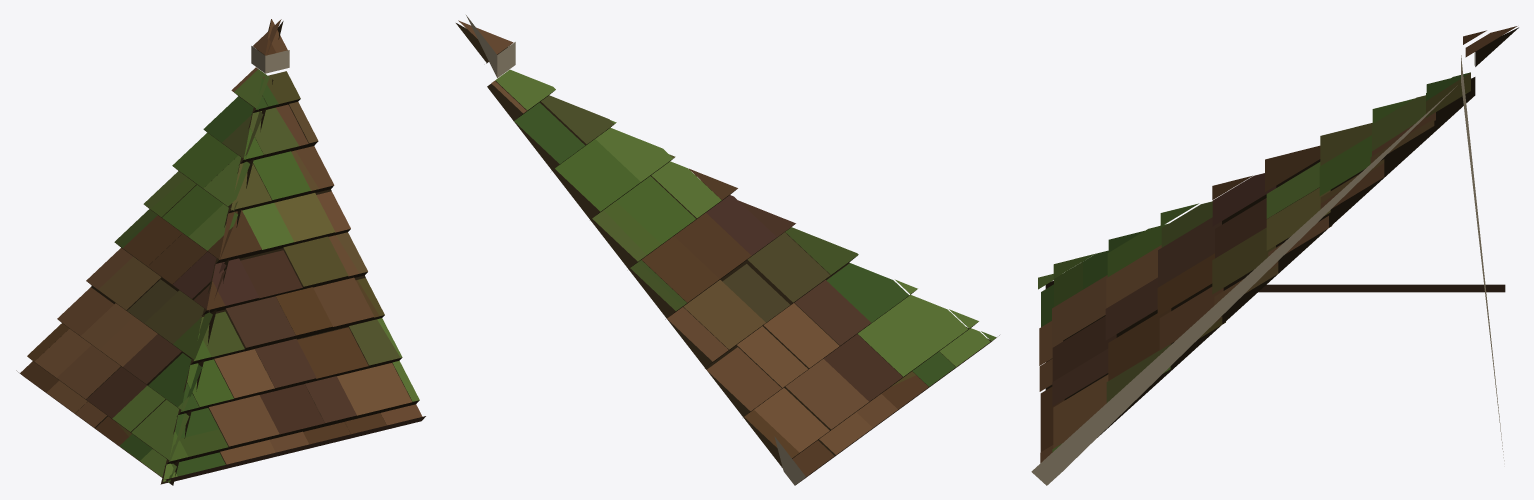
Rendered from roof-high-corner-mossy.glb.
The picture shows the model from 3 angles, left to right: view 1: azimuth 30°, elevation 25°; view 2: azimuth 150°, elevation 25°; view 3: azimuth 270°, elevation 25°; orthographic projection. The views are drawn at different scales.
Visible parts, largest first — view 1: roof-high-corner-mossy; view 2: roof-high-corner-mossy; view 3: roof-high-corner-mossy.
Boxes of the visible parts, x1,y1,x2,y2 form: roof-high-corner-mossy: (16,19,425,485); roof-high-corner-mossy: (456,15,999,485); roof-high-corner-mossy: (1031,26,1518,485).
Size of the model in its own units: 1.1 by 1.18 by 1.1.
